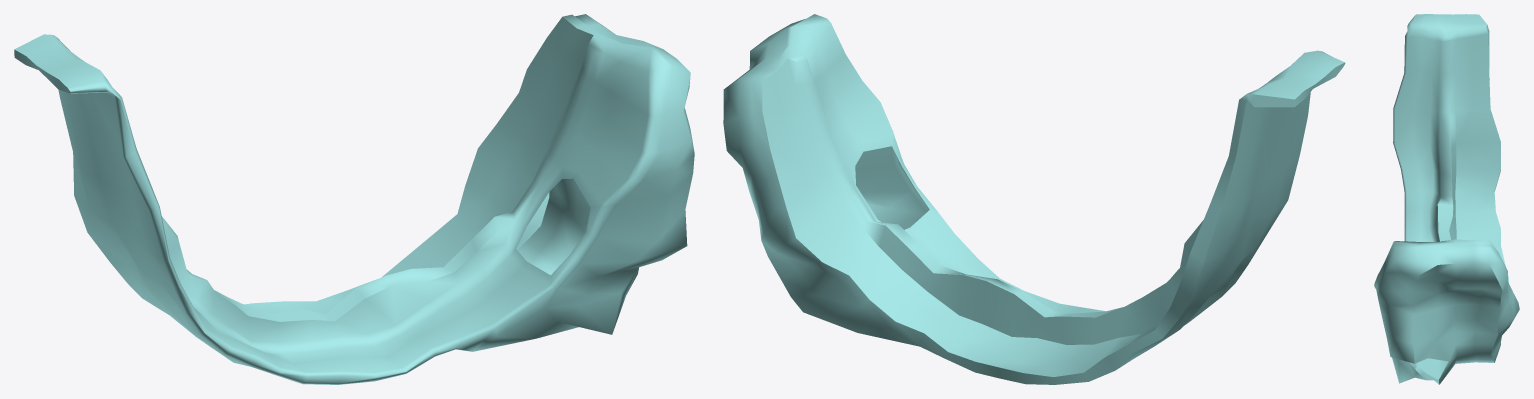
The model's file is Rutsche.fbx.
3 renders of one model, left to right at view 1: azimuth 30°, elevation 25°; view 2: azimuth 150°, elevation 25°; view 3: azimuth 270°, elevation 25°, orthographic. The views are drawn at different scales.
Parts seen in each view (by area): view 1: Rutsche; view 2: Rutsche; view 3: Rutsche.
Boxes of the visible parts, x1=… form: Rutsche: x1=14, y1=14, x2=694, y2=384; Rutsche: x1=723, y1=14, x2=1345, y2=384; Rutsche: x1=1374, y1=14, x2=1519, y2=384.
Size of the model in its own units: 8118 by 4686 by 2809.
